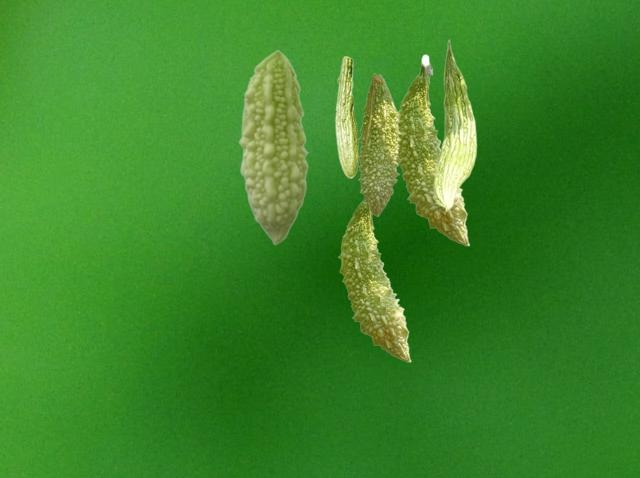ampalaya: (238, 49, 309, 245), (398, 54, 470, 246), (337, 197, 411, 362), (433, 39, 477, 212), (356, 73, 402, 217), (334, 55, 359, 179)
